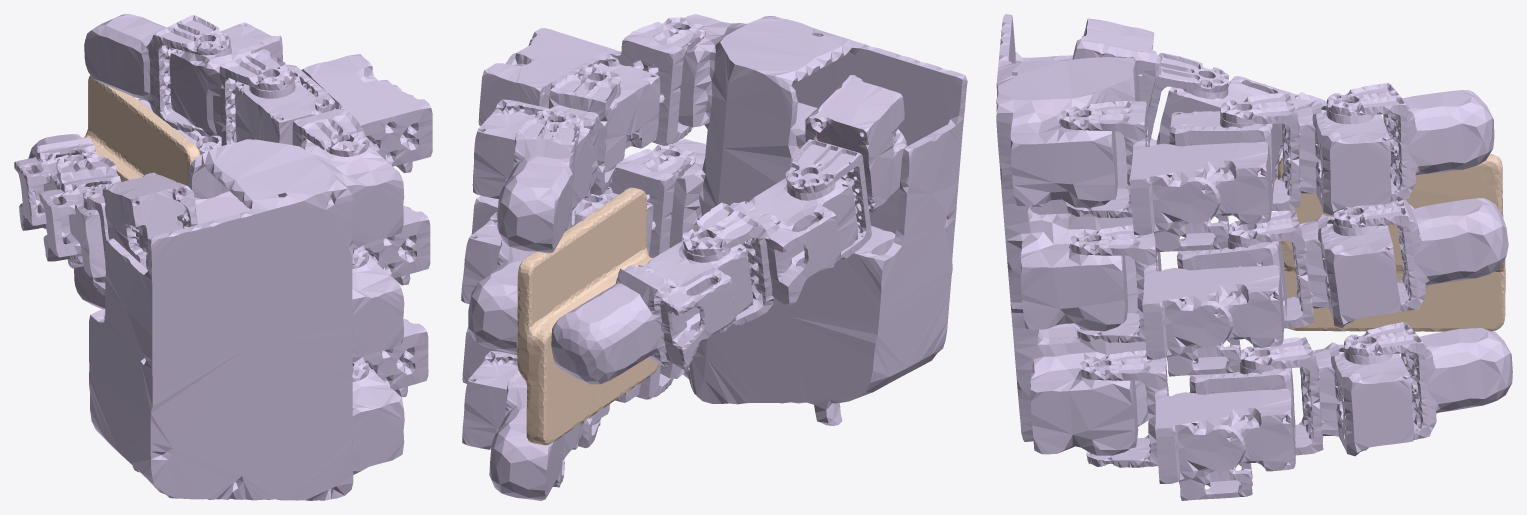
File: 70a8dfc47ac28c-final.glb
The picture shows the model from 3 angles, left to right: view 1: azimuth 30°, elevation 25°; view 2: azimuth 150°, elevation 25°; view 3: azimuth 270°, elevation 25°; orthographic projection. The views are drawn at different scales.
Visible parts, largest first — view 1: LEAP_hand, world; view 2: LEAP_hand, world; view 3: LEAP_hand, world.
Part boxes in pixels (x1,y1,x2,y2): LEAP_hand: [14, 14, 432, 500]; world: [82, 75, 200, 185]; LEAP_hand: [461, 14, 967, 500]; world: [517, 187, 658, 445]; LEAP_hand: [996, 14, 1512, 500]; world: [1277, 154, 1505, 331].
Bounding box in the file's own units: 0.1417 × 0.1311 × 0.1729.
